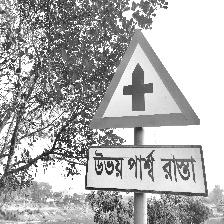Crossroad: (88, 30, 203, 193)
